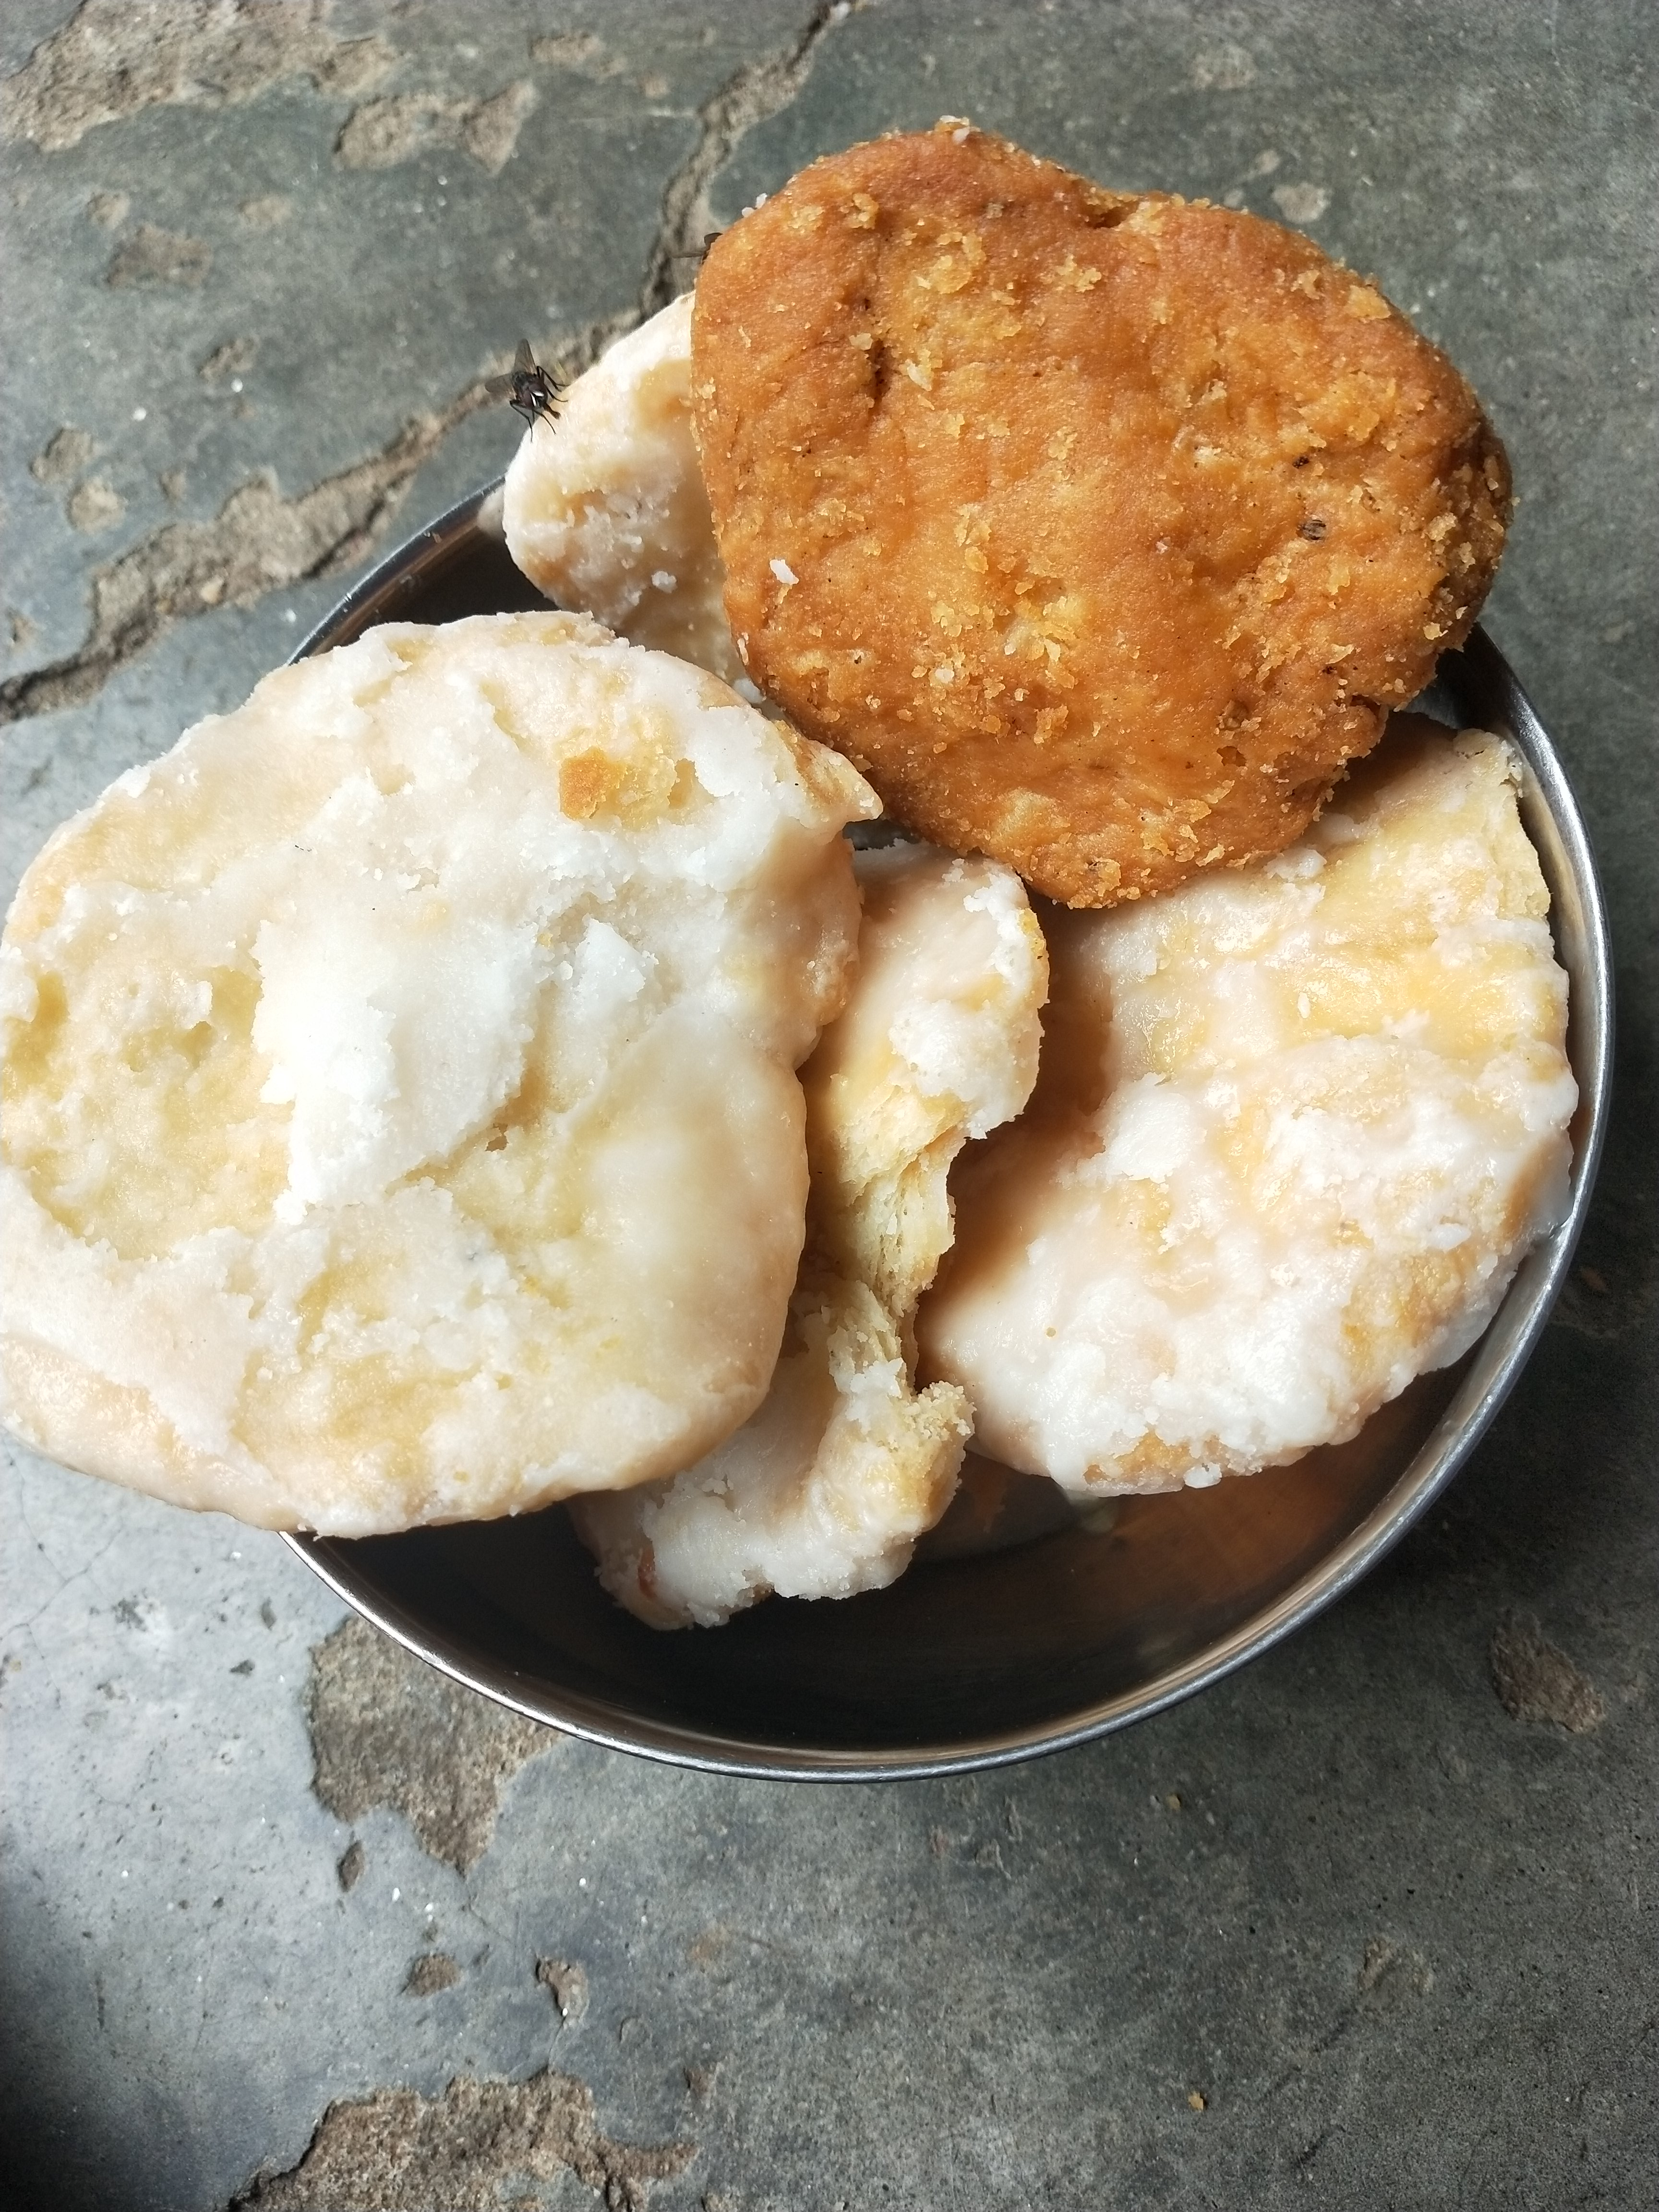food: (3, 105, 1588, 1648)
